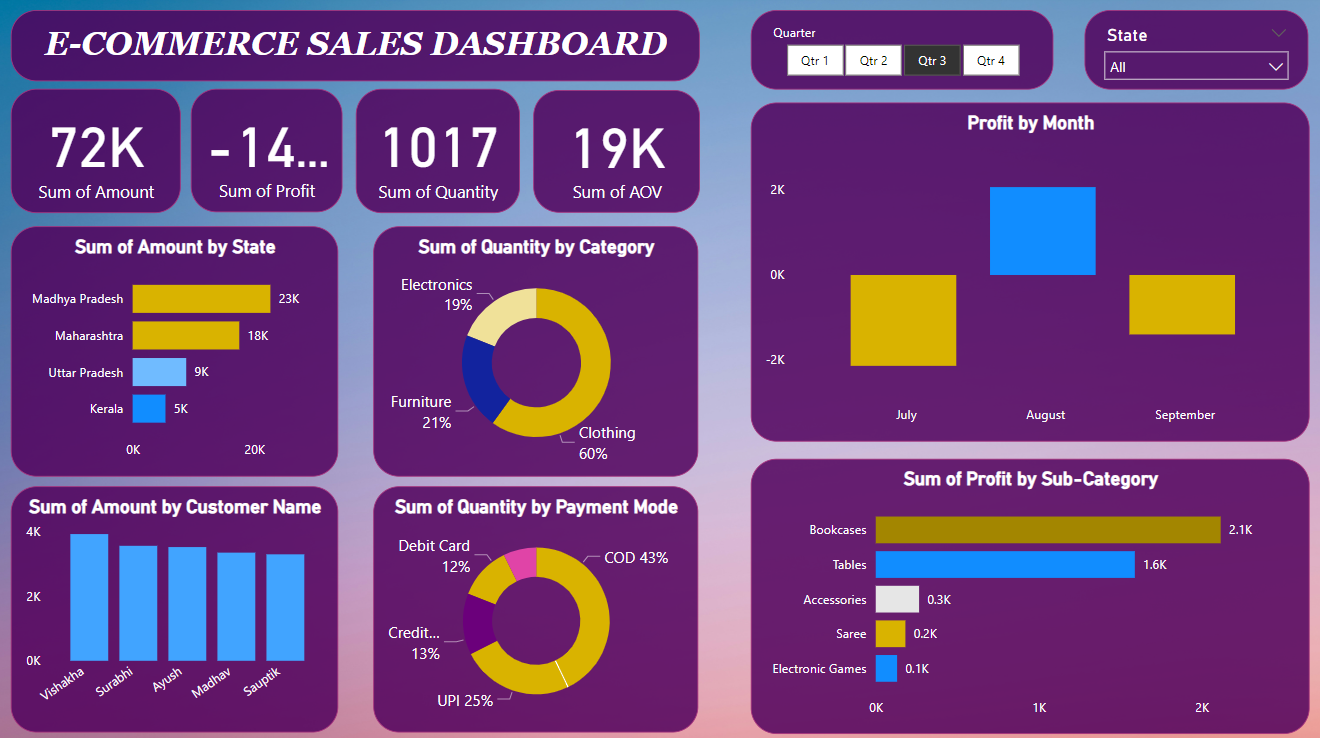

This screenshot's page, from the dashboard's own definition file:
{"tool":"powerbi","page":{"name":"Page 1","canvas":[1280,720],"ordinal":0},"visuals":[{"type":"textbox","box":[13.3,14.5,664.5,68.7],"z":0},{"type":"columnChart","title":"Profit by Month","fields":{"Category":["Orders.Order Date.Variation.Date Hierarchy.Month"],"Y":["Sum(Details.Profit)"]},"box":[727.2,103.7,539.1,326.8],"z":1000},{"type":"barChart","fields":{"Category":["Details.Sub-Category"],"Y":["Sum(Details.Profit)"]},"box":[726,445,539.1,266.5],"z":2000},{"type":"donutChart","fields":{"Category":["Details.Category"],"Y":["Sum(Details.Quantity)"]},"box":[363,223.1,313.6,241.2],"z":3000},{"type":"donutChart","title":"Sum of Quantity by Payment Mode","fields":{"Y":["Sum(Details.Quantity)"],"Category":["Details.PaymentMode"]},"box":[362.5,473.9,313.6,238.6],"z":4000},{"type":"card","fields":{"Values":["Sum(Details.Amount)"]},"box":[13,91,164,120],"z":5000},{"type":"card","fields":{"Values":["Sum(Details.Quantity)"]},"box":[346,90,158,120],"z":6000},{"type":"card","fields":{"Values":["Sum(Details.Profit)"]},"box":[187,91,146,119],"z":7000},{"type":"card","fields":{"Values":["Sum(Details.AOV)"]},"box":[517,92,161,118],"z":8000},{"type":"barChart","fields":{"Category":["Orders.State"],"Y":["Sum(Details.Amount)"]},"box":[13.3,223.1,316,241.2],"z":9000},{"type":"columnChart","title":"Sum of Amount by Customer Name","fields":{"Category":["Orders.CustomerName"],"Y":["Sum(Details.Amount)"]},"box":[13.6,473.9,315.9,238.6],"z":10000},{"type":"slicer","fields":{"Values":["Orders.Order Date.Variation.Date Hierarchy.Quarter"]},"box":[727.2,14.5,291.9,77.2],"z":11000},{"type":"slicer","fields":{"Values":["Orders.State"]},"box":[1049.2,14.5,215.9,77.2],"z":12000}]}

Visuals, with their boxes in screenshot pixels (x1, y1, x2, y2), scaled from the page's 1280x720 canvas onto the 1320x738 screenshot:
textbox: box(14, 15, 699, 85)
"Profit by Month" columnChart: box(750, 106, 1306, 441)
barChart - Details.Sub-Category x Sum(Details.Profit): box(749, 456, 1305, 729)
donutChart - Details.Category x Sum(Details.Quantity): box(374, 229, 698, 476)
"Sum of Quantity by Payment Mode" donutChart: box(374, 486, 697, 730)
card - Sum(Details.Amount): box(13, 93, 183, 216)
card - Sum(Details.Quantity): box(357, 92, 520, 215)
card - Sum(Details.Profit): box(193, 93, 343, 215)
card - Sum(Details.AOV): box(533, 94, 699, 215)
barChart - Orders.State x Sum(Details.Amount): box(14, 229, 340, 476)
"Sum of Amount by Customer Name" columnChart: box(14, 486, 340, 730)
slicer - Orders.Order Date.Variation.Date Hierarchy.Quarter: box(750, 15, 1051, 94)
slicer - Orders.State: box(1082, 15, 1305, 94)
